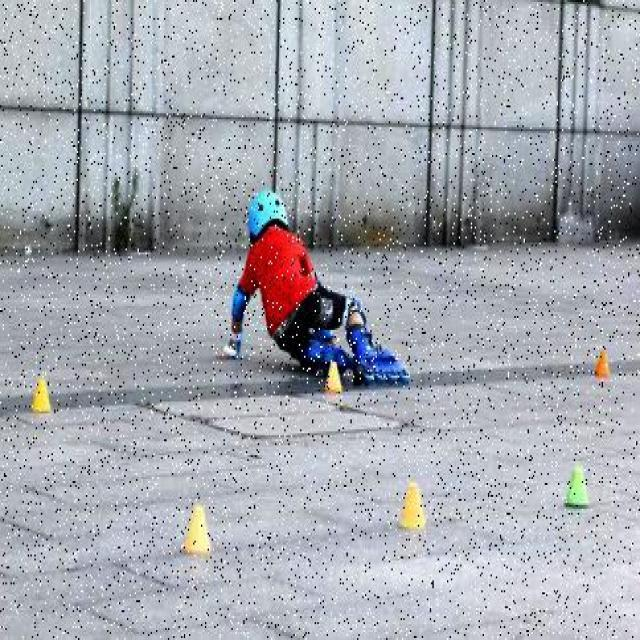fall: (226, 198, 413, 392)
